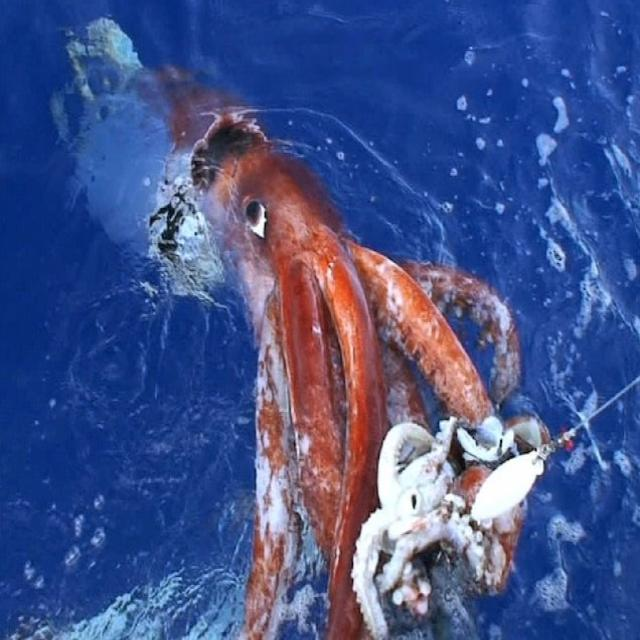squid: (82, 67, 519, 639)
